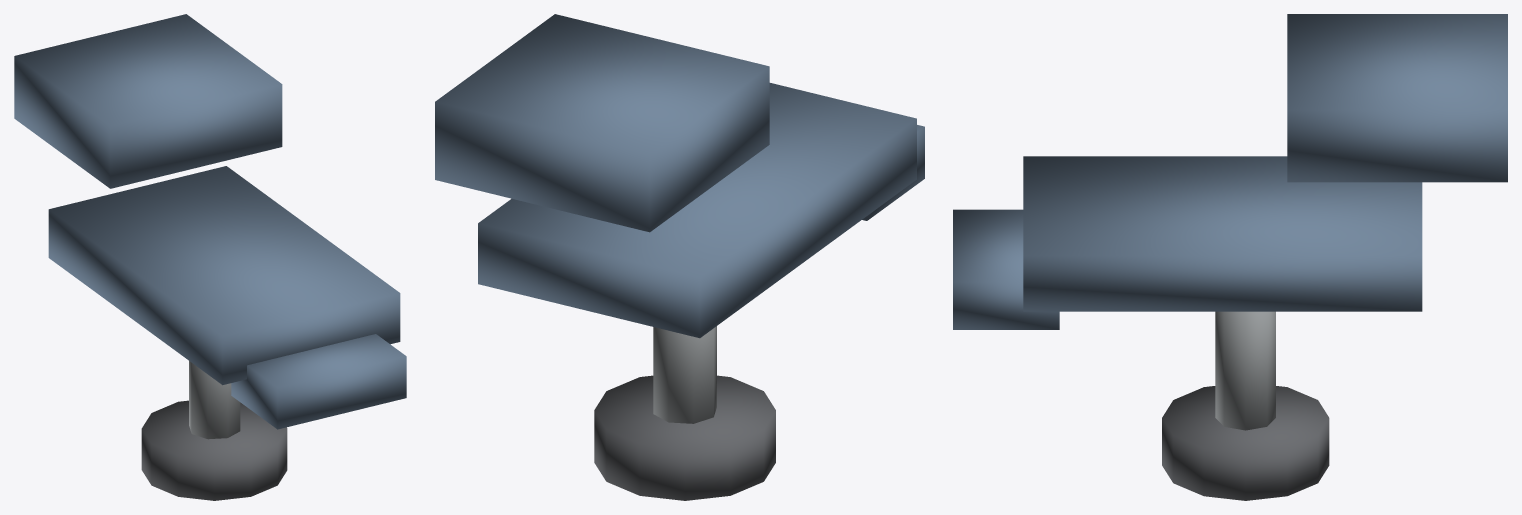
Rendered from dentist_chair__tall.glb.
3 renders of one model, left to right at view 1: azimuth 30°, elevation 25°; view 2: azimuth 150°, elevation 25°; view 3: azimuth 270°, elevation 25°, orthographic. The views are drawn at different scales.
Parts seen in each view (by area): view 1: world; view 2: world; view 3: world.
Part boxes in pixels (x1,y1,x2,y2): world: (14,14,406,500); world: (435,14,924,500); world: (953,14,1507,500).
Bounding box in the file's own units: 0.62 × 1.17 × 1.46.
